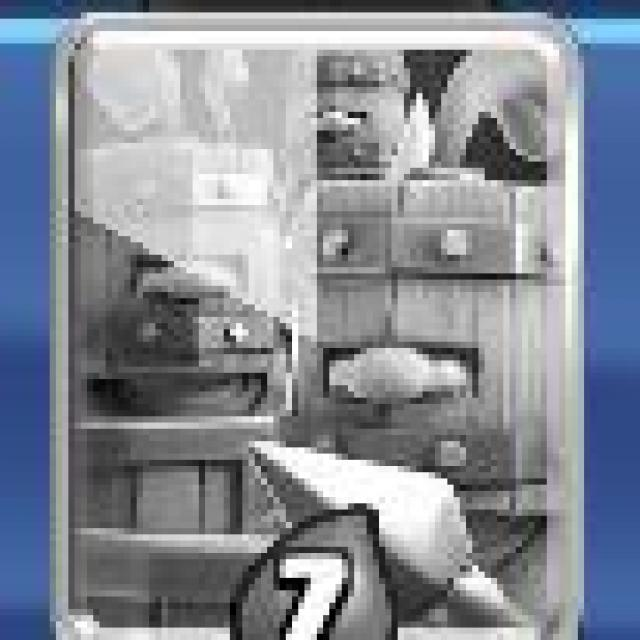Royal_Recruits: (57, 15, 584, 640)
